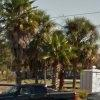Palm tree: (2, 3, 51, 100)
